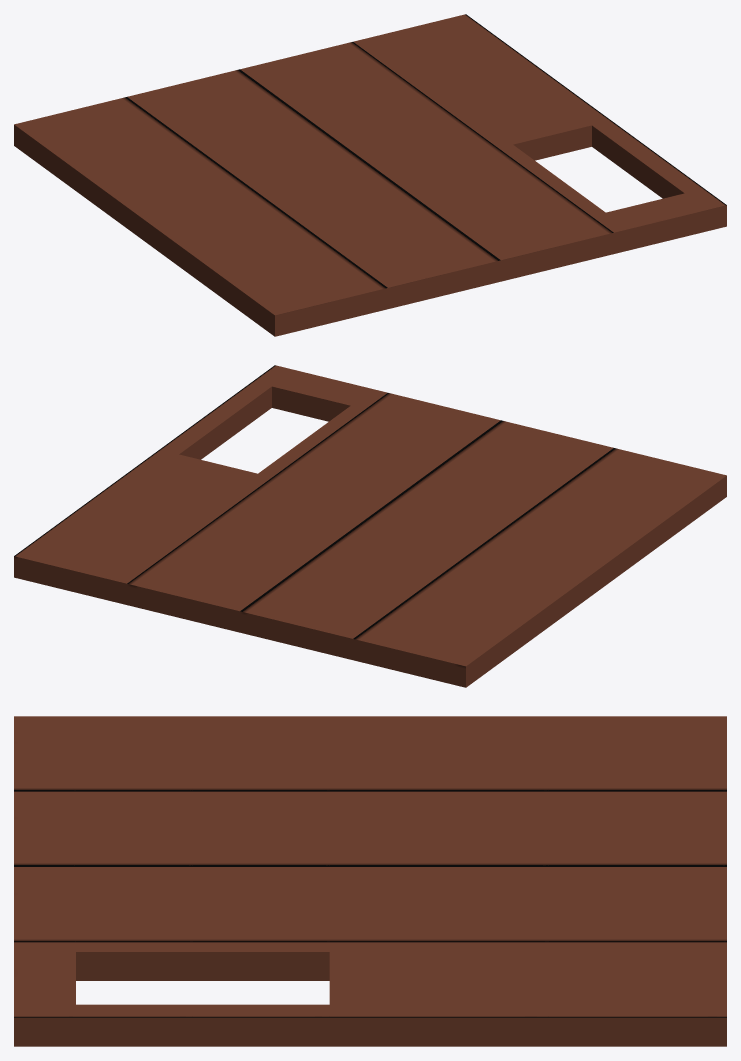
The model's file is WoodFloor(Stairway).fbx.
3 renders of one model, top to bottom at view 1: azimuth 30°, elevation 25°; view 2: azimuth 150°, elevation 25°; view 3: azimuth 270°, elevation 25°, orthographic. The views are drawn at different scales.
Visible parts, largest first — view 1: Plane; view 2: Plane; view 3: Plane.
Part boxes in pixels (x1,y1,x2,y2): Plane: (14, 14, 726, 336); Plane: (14, 365, 726, 687); Plane: (14, 716, 726, 1046).
Size of the model in its own units: 1427 by 64.53 by 1427.
